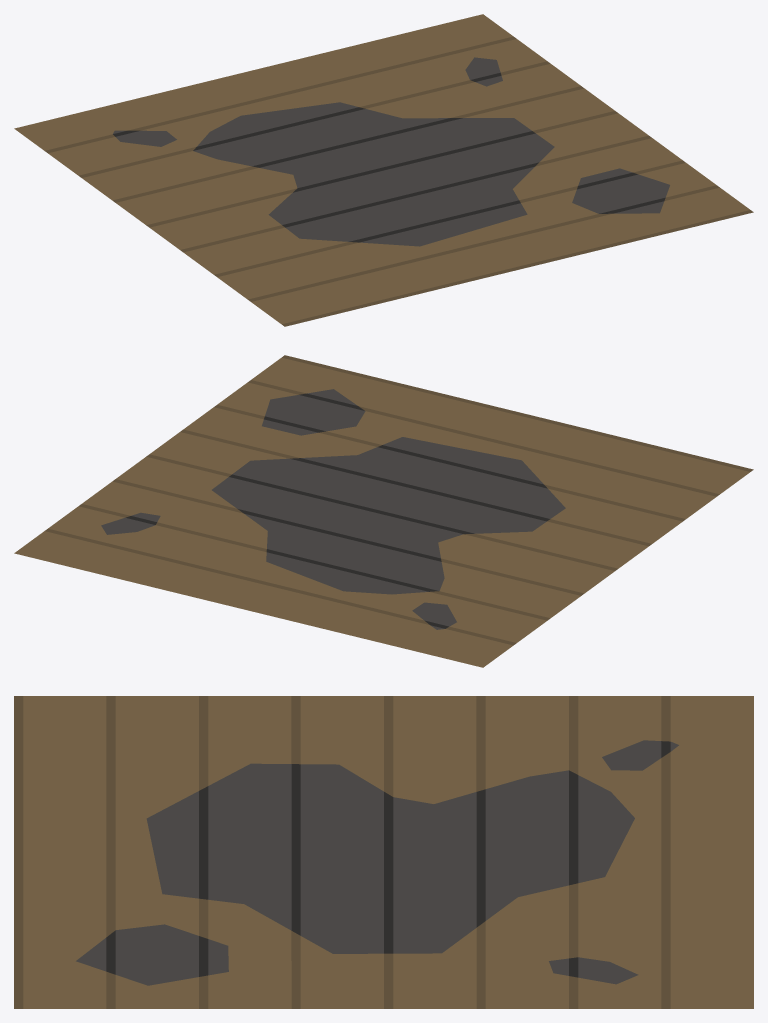
Rendered from AI_Env_Floor_02_Burnt.fbx.
The picture shows the model from 3 angles, top to bottom: view 1: azimuth 30°, elevation 25°; view 2: azimuth 150°, elevation 25°; view 3: azimuth 270°, elevation 25°; orthographic projection. The views are drawn at different scales.
Visible parts, largest first — view 1: AI_Env_Floor_02_Burnt; view 2: AI_Env_Floor_02_Burnt; view 3: AI_Env_Floor_02_Burnt.
Boxes of the visible parts, left/top/right/bottom form: AI_Env_Floor_02_Burnt: left=14, top=14, right=753, bottom=326; AI_Env_Floor_02_Burnt: left=14, top=355, right=753, bottom=667; AI_Env_Floor_02_Burnt: left=14, top=696, right=753, bottom=1008.
Size of the model in its own units: 5 by 0 by 5.
